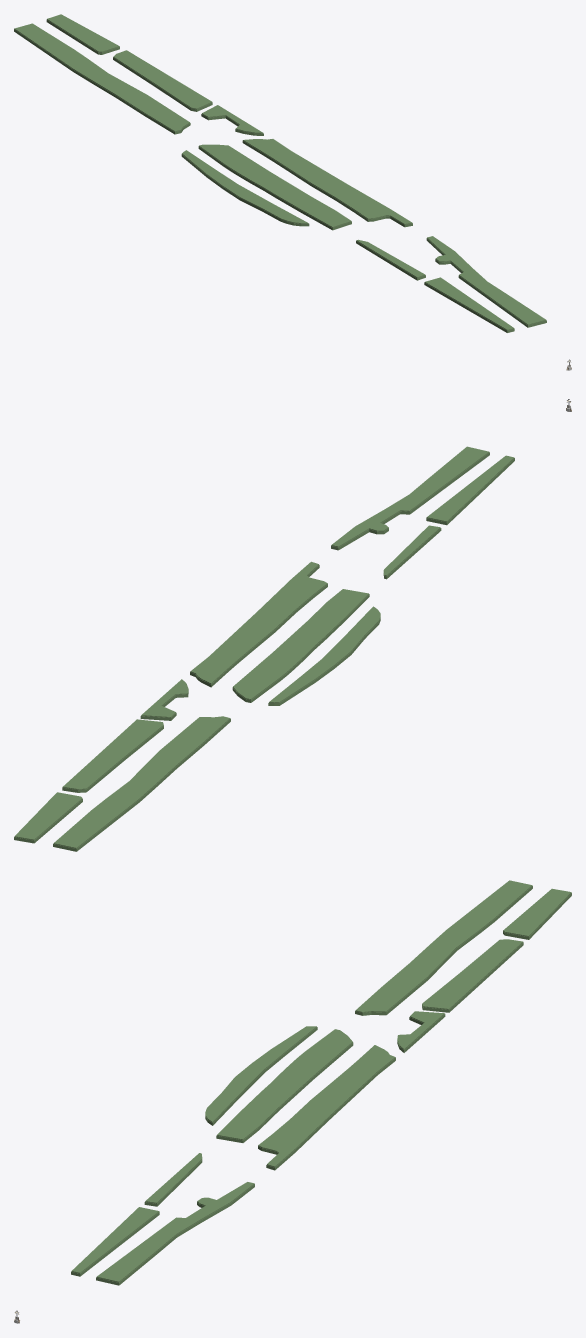
The model's file is props.glb.
3 renders of one model, top to bottom at view 1: azimuth 30°, elevation 25°; view 2: azimuth 150°, elevation 25°; view 3: azimuth 330°, elevation 25°, orthographic. The views are drawn at different scales.
Visible parts, largest first — view 1: hedge|hedge; view 2: hedge|hedge; view 3: hedge|hedge.
Part boxes in pixels (x1,y1,x2,y2): hedge|hedge: [14, 14, 546, 332]; hedge|hedge: [14, 446, 514, 851]; hedge|hedge: [71, 880, 571, 1285].
Size of the model in its own units: 43.4 by 4.11 by 342.
